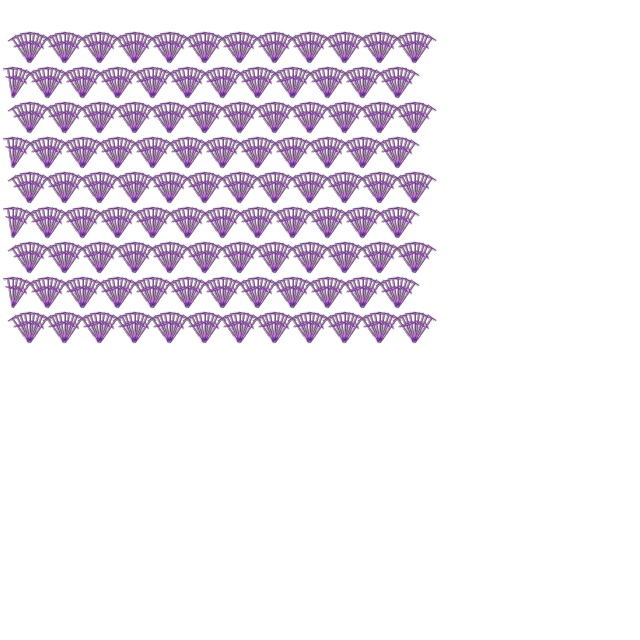double treble: (8, 34, 34, 66), (26, 34, 52, 66), (43, 34, 69, 66), (61, 34, 87, 66), (78, 34, 104, 66), (96, 34, 122, 66), (113, 34, 139, 66), (131, 34, 157, 66), (148, 34, 174, 66), (166, 34, 192, 66), (183, 34, 209, 66), (201, 34, 227, 66), (218, 34, 244, 66), (236, 34, 262, 66), (253, 34, 279, 66), (271, 34, 297, 66), (288, 34, 314, 66), (306, 34, 332, 66), (323, 34, 349, 66), (341, 34, 367, 66), (358, 34, 384, 66), (376, 34, 402, 66), (393, 34, 419, 66), (411, 34, 437, 66), (9, 69, 35, 101), (26, 69, 52, 101), (44, 69, 70, 101), (61, 69, 87, 101), (79, 69, 105, 101), (96, 69, 122, 101), (114, 69, 140, 101), (131, 69, 157, 101), (149, 69, 175, 101), (166, 69, 192, 101), (184, 69, 210, 101), (201, 69, 227, 101), (219, 69, 245, 101), (236, 69, 262, 101), (254, 69, 280, 101), (271, 69, 297, 101), (289, 69, 315, 101), (306, 69, 332, 101), (324, 69, 350, 101), (341, 69, 367, 101), (359, 69, 385, 101), (376, 69, 402, 101), (394, 69, 420, 101), (8, 104, 34, 136), (26, 104, 52, 136), (43, 104, 69, 136), (61, 104, 87, 136), (78, 104, 104, 136), (96, 104, 122, 136), (113, 104, 139, 136), (131, 104, 157, 136), (148, 104, 174, 136), (166, 104, 192, 136), (183, 104, 209, 136), (201, 104, 227, 136), (218, 104, 244, 136), (236, 104, 262, 136), (253, 104, 279, 136), (271, 104, 297, 136), (288, 104, 314, 136), (306, 104, 332, 136), (323, 104, 349, 136), (341, 104, 367, 136), (358, 104, 384, 136), (376, 104, 402, 136), (393, 104, 419, 136), (411, 104, 437, 136), (9, 139, 35, 171), (26, 139, 52, 171), (44, 139, 70, 171), (61, 139, 87, 171), (79, 139, 105, 171), (96, 139, 122, 171), (114, 139, 140, 171), (131, 139, 157, 171), (149, 139, 175, 171), (166, 139, 192, 171), (184, 139, 210, 171), (201, 139, 227, 171), (219, 139, 245, 171), (236, 139, 262, 171), (254, 139, 280, 171), (271, 139, 297, 171), (289, 139, 315, 171), (306, 139, 332, 171), (324, 139, 350, 171), (341, 139, 367, 171), (359, 139, 385, 171), (376, 139, 402, 171), (394, 139, 420, 171), (8, 174, 34, 206), (26, 174, 52, 206), (43, 174, 69, 206), (61, 174, 87, 206), (78, 174, 104, 206), (96, 174, 122, 206), (113, 174, 139, 206), (131, 174, 157, 206), (148, 174, 174, 206), (166, 174, 192, 206), (183, 174, 209, 206), (201, 174, 227, 206), (218, 174, 244, 206), (236, 174, 262, 206), (253, 174, 279, 206), (271, 174, 297, 206), (288, 174, 314, 206), (306, 174, 332, 206), (323, 174, 349, 206), (341, 174, 367, 206), (358, 174, 384, 206), (376, 174, 402, 206), (393, 174, 419, 206), (411, 174, 437, 206), (9, 209, 35, 241), (26, 209, 52, 241), (44, 209, 70, 241), (61, 209, 87, 241), (79, 209, 105, 241), (96, 209, 122, 241), (114, 209, 140, 241), (131, 209, 157, 241), (149, 209, 175, 241), (166, 209, 192, 241), (184, 209, 210, 241), (201, 209, 227, 241), (219, 209, 245, 241), (236, 209, 262, 241), (254, 209, 280, 241), (271, 209, 297, 241), (289, 209, 315, 241), (306, 209, 332, 241), (324, 209, 350, 241), (341, 209, 367, 241), (359, 209, 385, 241), (376, 209, 402, 241), (394, 209, 420, 241), (8, 244, 34, 276), (26, 244, 52, 276), (43, 244, 69, 276), (61, 244, 87, 276), (78, 244, 104, 276), (96, 244, 122, 276), (113, 244, 139, 276), (131, 244, 157, 276), (148, 244, 174, 276), (166, 244, 192, 276), (183, 244, 209, 276), (201, 244, 227, 276), (218, 244, 244, 276), (236, 244, 262, 276), (253, 244, 279, 276), (271, 244, 297, 276), (288, 244, 314, 276), (306, 244, 332, 276), (323, 244, 349, 276), (341, 244, 367, 276), (358, 244, 384, 276), (376, 244, 402, 276), (393, 244, 419, 276), (411, 244, 437, 276), (9, 279, 35, 311), (26, 279, 52, 311), (44, 279, 70, 311), (61, 279, 87, 311), (79, 279, 105, 311), (96, 279, 122, 311), (114, 279, 140, 311), (131, 279, 157, 311), (149, 279, 175, 311), (166, 279, 192, 311), (184, 279, 210, 311), (201, 279, 227, 311), (219, 279, 245, 311), (236, 279, 262, 311), (254, 279, 280, 311), (271, 279, 297, 311), (289, 279, 315, 311), (306, 279, 332, 311), (324, 279, 350, 311), (341, 279, 367, 311), (359, 279, 385, 311), (376, 279, 402, 311), (394, 279, 420, 311), (8, 314, 34, 346), (26, 314, 52, 346), (43, 314, 69, 346), (61, 314, 87, 346), (78, 314, 104, 346), (96, 314, 122, 346), (113, 314, 139, 346), (131, 314, 157, 346), (148, 314, 174, 346), (166, 314, 192, 346), (183, 314, 209, 346), (201, 314, 227, 346), (218, 314, 244, 346), (236, 314, 262, 346), (253, 314, 279, 346), (271, 314, 297, 346), (288, 314, 314, 346), (306, 314, 332, 346), (323, 314, 349, 346), (341, 314, 367, 346), (358, 314, 384, 346), (376, 314, 402, 346), (393, 314, 419, 346), (411, 314, 437, 346), (12, 32, 34, 65), (26, 32, 48, 65), (47, 32, 69, 65), (61, 32, 83, 65), (82, 32, 104, 65), (96, 32, 118, 65), (117, 32, 139, 65), (131, 32, 153, 65), (152, 32, 174, 65), (166, 32, 188, 65), (187, 32, 209, 65), (201, 32, 223, 65), (222, 32, 244, 65), (236, 32, 258, 65), (257, 32, 279, 65), (271, 32, 293, 65), (292, 32, 314, 65), (306, 32, 328, 65), (327, 32, 349, 65), (341, 32, 363, 65), (362, 32, 384, 65), (376, 32, 398, 65), (397, 32, 419, 65), (411, 32, 433, 65), (9, 67, 31, 100), (30, 67, 52, 100), (44, 67, 66, 100), (65, 67, 87, 100), (79, 67, 101, 100), (100, 67, 122, 100), (114, 67, 136, 100), (135, 67, 157, 100), (149, 67, 171, 100), (170, 67, 192, 100), (184, 67, 206, 100), (205, 67, 227, 100), (219, 67, 241, 100), (240, 67, 262, 100), (254, 67, 276, 100), (275, 67, 297, 100), (289, 67, 311, 100), (310, 67, 332, 100), (324, 67, 346, 100), (345, 67, 367, 100), (359, 67, 381, 100), (380, 67, 402, 100), (394, 67, 416, 100), (12, 102, 34, 135), (26, 102, 48, 135), (47, 102, 69, 135), (61, 102, 83, 135), (82, 102, 104, 135), (96, 102, 118, 135), (117, 102, 139, 135), (131, 102, 153, 135), (152, 102, 174, 135), (166, 102, 188, 135), (187, 102, 209, 135), (201, 102, 223, 135), (222, 102, 244, 135), (236, 102, 258, 135), (257, 102, 279, 135), (271, 102, 293, 135), (292, 102, 314, 135), (306, 102, 328, 135), (327, 102, 349, 135), (341, 102, 363, 135), (362, 102, 384, 135), (376, 102, 398, 135), (397, 102, 419, 135), (411, 102, 433, 135), (9, 137, 31, 170), (30, 137, 52, 170), (44, 137, 66, 170), (65, 137, 87, 170), (79, 137, 101, 170), (100, 137, 122, 170), (114, 137, 136, 170), (135, 137, 157, 170), (149, 137, 171, 170), (170, 137, 192, 170), (184, 137, 206, 170), (205, 137, 227, 170), (219, 137, 241, 170), (240, 137, 262, 170), (254, 137, 276, 170), (275, 137, 297, 170), (289, 137, 311, 170), (310, 137, 332, 170), (324, 137, 346, 170), (345, 137, 367, 170), (359, 137, 381, 170), (380, 137, 402, 170), (394, 137, 416, 170), (12, 172, 34, 205), (26, 172, 48, 205), (47, 172, 69, 205), (61, 172, 83, 205), (82, 172, 104, 205), (96, 172, 118, 205), (117, 172, 139, 205), (131, 172, 153, 205), (152, 172, 174, 205), (166, 172, 188, 205), (187, 172, 209, 205), (201, 172, 223, 205), (222, 172, 244, 205), (236, 172, 258, 205), (257, 172, 279, 205), (271, 172, 293, 205), (292, 172, 314, 205), (306, 172, 328, 205), (327, 172, 349, 205), (341, 172, 363, 205), (362, 172, 384, 205), (376, 172, 398, 205), (397, 172, 419, 205), (411, 172, 433, 205), (9, 207, 31, 240), (30, 207, 52, 240), (44, 207, 66, 240), (65, 207, 87, 240), (79, 207, 101, 240), (100, 207, 122, 240), (114, 207, 136, 240), (135, 207, 157, 240), (149, 207, 171, 240), (170, 207, 192, 240), (184, 207, 206, 240), (205, 207, 227, 240), (219, 207, 241, 240), (240, 207, 262, 240), (254, 207, 276, 240), (275, 207, 297, 240), (289, 207, 311, 240), (310, 207, 332, 240), (324, 207, 346, 240), (345, 207, 367, 240), (359, 207, 381, 240), (380, 207, 402, 240), (394, 207, 416, 240), (12, 242, 34, 275), (26, 242, 48, 275), (47, 242, 69, 275), (61, 242, 83, 275), (82, 242, 104, 275), (96, 242, 118, 275), (117, 242, 139, 275), (131, 242, 153, 275), (152, 242, 174, 275), (166, 242, 188, 275), (187, 242, 209, 275), (201, 242, 223, 275), (222, 242, 244, 275), (236, 242, 258, 275), (257, 242, 279, 275), (271, 242, 293, 275), (292, 242, 314, 275), (306, 242, 328, 275), (327, 242, 349, 275), (341, 242, 363, 275), (362, 242, 384, 275), (376, 242, 398, 275), (397, 242, 419, 275), (411, 242, 433, 275), (9, 277, 31, 310), (30, 277, 52, 310), (44, 277, 66, 310), (65, 277, 87, 310), (79, 277, 101, 310), (100, 277, 122, 310), (114, 277, 136, 310), (135, 277, 157, 310), (149, 277, 171, 310), (170, 277, 192, 310), (184, 277, 206, 310), (205, 277, 227, 310), (219, 277, 241, 310), (240, 277, 262, 310), (254, 277, 276, 310), (275, 277, 297, 310), (289, 277, 311, 310), (310, 277, 332, 310), (324, 277, 346, 310), (345, 277, 367, 310), (359, 277, 381, 310), (380, 277, 402, 310), (394, 277, 416, 310), (12, 312, 34, 345), (26, 312, 48, 345), (47, 312, 69, 345), (61, 312, 83, 345), (82, 312, 104, 345), (96, 312, 118, 345), (117, 312, 139, 345), (131, 312, 153, 345), (152, 312, 174, 345), (166, 312, 188, 345), (187, 312, 209, 345), (201, 312, 223, 345), (222, 312, 244, 345), (236, 312, 258, 345), (257, 312, 279, 345), (271, 312, 293, 345), (292, 312, 314, 345), (306, 312, 328, 345), (327, 312, 349, 345), (341, 312, 363, 345), (362, 312, 384, 345), (376, 312, 398, 345), (397, 312, 419, 345), (411, 312, 433, 345), (16, 31, 35, 64), (25, 31, 44, 64), (51, 31, 70, 64), (60, 31, 79, 64), (86, 31, 105, 64), (95, 31, 114, 64), (121, 31, 140, 64), (130, 31, 149, 64), (156, 31, 175, 64), (165, 31, 184, 64), (191, 31, 210, 64), (200, 31, 219, 64), (226, 31, 245, 64), (235, 31, 254, 64), (261, 31, 280, 64), (270, 31, 289, 64), (296, 31, 315, 64), (305, 31, 324, 64), (331, 31, 350, 64), (340, 31, 359, 64), (366, 31, 385, 64), (375, 31, 394, 64), (401, 31, 420, 64), (410, 31, 429, 64), (8, 66, 27, 99), (34, 66, 53, 99), (43, 66, 62, 99), (69, 66, 88, 99), (78, 66, 97, 99), (104, 66, 123, 99), (113, 66, 132, 99), (139, 66, 158, 99), (148, 66, 167, 99), (174, 66, 193, 99), (183, 66, 202, 99), (209, 66, 228, 99), (218, 66, 237, 99), (244, 66, 263, 99), (253, 66, 272, 99), (279, 66, 298, 99), (288, 66, 307, 99), (314, 66, 333, 99), (323, 66, 342, 99), (349, 66, 368, 99), (358, 66, 377, 99), (384, 66, 403, 99), (393, 66, 412, 99), (16, 101, 35, 134), (25, 101, 44, 134), (51, 101, 70, 134), (60, 101, 79, 134), (86, 101, 105, 134), (95, 101, 114, 134), (121, 101, 140, 134), (130, 101, 149, 134), (156, 101, 175, 134), (165, 101, 184, 134), (191, 101, 210, 134), (200, 101, 219, 134), (226, 101, 245, 134), (235, 101, 254, 134), (261, 101, 280, 134), (270, 101, 289, 134), (296, 101, 315, 134), (305, 101, 324, 134), (331, 101, 350, 134), (340, 101, 359, 134), (366, 101, 385, 134), (375, 101, 394, 134), (401, 101, 420, 134), (410, 101, 429, 134), (8, 136, 27, 169), (34, 136, 53, 169), (43, 136, 62, 169), (69, 136, 88, 169), (78, 136, 97, 169), (104, 136, 123, 169), (113, 136, 132, 169), (139, 136, 158, 169), (148, 136, 167, 169), (174, 136, 193, 169), (183, 136, 202, 169), (209, 136, 228, 169), (218, 136, 237, 169), (244, 136, 263, 169), (253, 136, 272, 169), (279, 136, 298, 169), (288, 136, 307, 169), (314, 136, 333, 169), (323, 136, 342, 169), (349, 136, 368, 169), (358, 136, 377, 169), (384, 136, 403, 169), (393, 136, 412, 169), (16, 171, 35, 204), (25, 171, 44, 204), (51, 171, 70, 204), (60, 171, 79, 204), (86, 171, 105, 204), (95, 171, 114, 204), (121, 171, 140, 204), (130, 171, 149, 204), (156, 171, 175, 204), (165, 171, 184, 204), (191, 171, 210, 204), (200, 171, 219, 204), (226, 171, 245, 204), (235, 171, 254, 204), (261, 171, 280, 204), (270, 171, 289, 204), (296, 171, 315, 204), (305, 171, 324, 204), (331, 171, 350, 204), (340, 171, 359, 204), (366, 171, 385, 204), (375, 171, 394, 204), (401, 171, 420, 204), (410, 171, 429, 204), (8, 206, 27, 239), (34, 206, 53, 239), (43, 206, 62, 239), (69, 206, 88, 239), (78, 206, 97, 239), (104, 206, 123, 239), (113, 206, 132, 239), (139, 206, 158, 239), (148, 206, 167, 239), (174, 206, 193, 239), (183, 206, 202, 239), (209, 206, 228, 239), (218, 206, 237, 239), (244, 206, 263, 239), (253, 206, 272, 239), (279, 206, 298, 239), (288, 206, 307, 239), (314, 206, 333, 239), (323, 206, 342, 239), (349, 206, 368, 239), (358, 206, 377, 239), (384, 206, 403, 239), (393, 206, 412, 239), (16, 241, 35, 274), (25, 241, 44, 274), (51, 241, 70, 274), (60, 241, 79, 274), (86, 241, 105, 274), (95, 241, 114, 274), (121, 241, 140, 274), (130, 241, 149, 274), (156, 241, 175, 274), (165, 241, 184, 274), (191, 241, 210, 274), (200, 241, 219, 274), (226, 241, 245, 274), (235, 241, 254, 274), (261, 241, 280, 274), (270, 241, 289, 274), (296, 241, 315, 274), (305, 241, 324, 274), (331, 241, 350, 274), (340, 241, 359, 274), (366, 241, 385, 274), (375, 241, 394, 274), (401, 241, 420, 274), (410, 241, 429, 274), (8, 276, 27, 309), (34, 276, 53, 309), (43, 276, 62, 309), (69, 276, 88, 309), (78, 276, 97, 309), (104, 276, 123, 309), (113, 276, 132, 309), (139, 276, 158, 309), (148, 276, 167, 309), (174, 276, 193, 309), (183, 276, 202, 309), (209, 276, 228, 309), (218, 276, 237, 309), (244, 276, 263, 309), (253, 276, 272, 309), (279, 276, 298, 309), (288, 276, 307, 309), (314, 276, 333, 309), (323, 276, 342, 309), (349, 276, 368, 309), (358, 276, 377, 309), (384, 276, 403, 309), (393, 276, 412, 309), (16, 311, 35, 344), (25, 311, 44, 344), (51, 311, 70, 344), (60, 311, 79, 344), (86, 311, 105, 344), (95, 311, 114, 344), (121, 311, 140, 344), (130, 311, 149, 344), (156, 311, 175, 344), (165, 311, 184, 344), (191, 311, 210, 344), (200, 311, 219, 344), (226, 311, 245, 344), (235, 311, 254, 344), (261, 311, 280, 344), (270, 311, 289, 344), (296, 311, 315, 344), (305, 311, 324, 344), (331, 311, 350, 344), (340, 311, 359, 344), (366, 311, 385, 344), (375, 311, 394, 344), (401, 311, 420, 344), (410, 311, 429, 344), (20, 31, 35, 64), (25, 31, 40, 64), (55, 31, 70, 64), (60, 31, 75, 64), (90, 31, 105, 64), (95, 31, 110, 64), (125, 31, 140, 64), (130, 31, 145, 64), (160, 31, 175, 64), (165, 31, 180, 64), (195, 31, 210, 64), (200, 31, 215, 64), (230, 31, 245, 64), (235, 31, 250, 64), (265, 31, 280, 64), (270, 31, 285, 64), (300, 31, 315, 64), (305, 31, 320, 64), (335, 31, 350, 64), (340, 31, 355, 64), (370, 31, 385, 64), (375, 31, 390, 64), (405, 31, 420, 64), (410, 31, 425, 64), (3, 66, 18, 99), (8, 66, 23, 99), (38, 66, 53, 99), (43, 66, 58, 99), (73, 66, 88, 99), (78, 66, 93, 99), (108, 66, 123, 99), (113, 66, 128, 99), (143, 66, 158, 99), (148, 66, 163, 99), (178, 66, 193, 99), (183, 66, 198, 99), (213, 66, 228, 99), (218, 66, 233, 99), (248, 66, 263, 99), (253, 66, 268, 99), (283, 66, 298, 99), (288, 66, 303, 99), (318, 66, 333, 99), (323, 66, 338, 99), (353, 66, 368, 99), (358, 66, 373, 99), (388, 66, 403, 99), (393, 66, 408, 99), (20, 101, 35, 134), (25, 101, 40, 134), (55, 101, 70, 134), (60, 101, 75, 134), (90, 101, 105, 134), (95, 101, 110, 134), (125, 101, 140, 134), (130, 101, 145, 134), (160, 101, 175, 134), (165, 101, 180, 134), (195, 101, 210, 134), (200, 101, 215, 134), (230, 101, 245, 134), (235, 101, 250, 134), (265, 101, 280, 134), (270, 101, 285, 134), (300, 101, 315, 134), (305, 101, 320, 134), (335, 101, 350, 134), (340, 101, 355, 134), (370, 101, 385, 134), (375, 101, 390, 134), (405, 101, 420, 134), (410, 101, 425, 134), (3, 136, 18, 169), (8, 136, 23, 169), (38, 136, 53, 169), (43, 136, 58, 169), (73, 136, 88, 169), (78, 136, 93, 169), (108, 136, 123, 169), (113, 136, 128, 169), (143, 136, 158, 169), (148, 136, 163, 169), (178, 136, 193, 169), (183, 136, 198, 169), (213, 136, 228, 169), (218, 136, 233, 169), (248, 136, 263, 169), (253, 136, 268, 169), (283, 136, 298, 169), (288, 136, 303, 169), (318, 136, 333, 169), (323, 136, 338, 169), (353, 136, 368, 169), (358, 136, 373, 169), (388, 136, 403, 169), (393, 136, 408, 169), (20, 171, 35, 204), (25, 171, 40, 204), (55, 171, 70, 204), (60, 171, 75, 204), (90, 171, 105, 204), (95, 171, 110, 204), (125, 171, 140, 204), (130, 171, 145, 204), (160, 171, 175, 204), (165, 171, 180, 204), (195, 171, 210, 204), (200, 171, 215, 204), (230, 171, 245, 204), (235, 171, 250, 204), (265, 171, 280, 204), (270, 171, 285, 204), (300, 171, 315, 204), (305, 171, 320, 204), (335, 171, 350, 204), (340, 171, 355, 204), (370, 171, 385, 204), (375, 171, 390, 204), (405, 171, 420, 204), (410, 171, 425, 204), (3, 206, 18, 239), (8, 206, 23, 239), (38, 206, 53, 239), (43, 206, 58, 239), (73, 206, 88, 239), (78, 206, 93, 239), (108, 206, 123, 239), (113, 206, 128, 239), (143, 206, 158, 239), (148, 206, 163, 239), (178, 206, 193, 239), (183, 206, 198, 239), (213, 206, 228, 239), (218, 206, 233, 239), (248, 206, 263, 239), (253, 206, 268, 239), (283, 206, 298, 239), (288, 206, 303, 239), (318, 206, 333, 239), (323, 206, 338, 239), (353, 206, 368, 239), (358, 206, 373, 239), (388, 206, 403, 239), (393, 206, 408, 239), (20, 241, 35, 274), (25, 241, 40, 274), (55, 241, 70, 274), (60, 241, 75, 274), (90, 241, 105, 274), (95, 241, 110, 274), (125, 241, 140, 274), (130, 241, 145, 274), (160, 241, 175, 274), (165, 241, 180, 274), (195, 241, 210, 274), (200, 241, 215, 274), (230, 241, 245, 274), (235, 241, 250, 274), (265, 241, 280, 274), (270, 241, 285, 274), (300, 241, 315, 274), (305, 241, 320, 274), (335, 241, 350, 274), (340, 241, 355, 274), (370, 241, 385, 274), (375, 241, 390, 274), (405, 241, 420, 274), (410, 241, 425, 274), (3, 276, 18, 309), (8, 276, 23, 309), (38, 276, 53, 309), (43, 276, 58, 309), (73, 276, 88, 309), (78, 276, 93, 309), (108, 276, 123, 309), (113, 276, 128, 309), (143, 276, 158, 309), (148, 276, 163, 309), (178, 276, 193, 309), (183, 276, 198, 309), (213, 276, 228, 309), (218, 276, 233, 309), (248, 276, 263, 309), (253, 276, 268, 309), (283, 276, 298, 309), (288, 276, 303, 309), (318, 276, 333, 309), (323, 276, 338, 309), (353, 276, 368, 309), (358, 276, 373, 309), (388, 276, 403, 309), (393, 276, 408, 309), (20, 311, 35, 344), (25, 311, 40, 344), (55, 311, 70, 344), (60, 311, 75, 344), (90, 311, 105, 344), (95, 311, 110, 344), (125, 311, 140, 344), (130, 311, 145, 344), (160, 311, 175, 344), (165, 311, 180, 344), (195, 311, 210, 344), (200, 311, 215, 344), (230, 311, 245, 344), (235, 311, 250, 344), (265, 311, 280, 344), (270, 311, 285, 344), (300, 311, 315, 344), (305, 311, 320, 344), (335, 311, 350, 344), (340, 311, 355, 344), (370, 311, 385, 344), (375, 311, 390, 344), (405, 311, 420, 344), (410, 311, 425, 344), (25, 31, 35, 63), (60, 31, 70, 63), (95, 31, 105, 63), (130, 31, 140, 63), (165, 31, 175, 63), (200, 31, 210, 63), (235, 31, 245, 63), (270, 31, 280, 63), (305, 31, 315, 63), (340, 31, 350, 63), (375, 31, 385, 63), (410, 31, 420, 63), (8, 66, 18, 98), (43, 66, 53, 98), (78, 66, 88, 98), (113, 66, 123, 98), (148, 66, 158, 98), (183, 66, 193, 98), (218, 66, 228, 98), (253, 66, 263, 98), (288, 66, 298, 98), (323, 66, 333, 98), (358, 66, 368, 98), (393, 66, 403, 98), (25, 101, 35, 133), (60, 101, 70, 133), (95, 101, 105, 133), (130, 101, 140, 133), (165, 101, 175, 133), (200, 101, 210, 133), (235, 101, 245, 133), (270, 101, 280, 133), (305, 101, 315, 133), (340, 101, 350, 133), (375, 101, 385, 133), (410, 101, 420, 133), (8, 136, 18, 168), (43, 136, 53, 168), (78, 136, 88, 168), (113, 136, 123, 168), (148, 136, 158, 168), (183, 136, 193, 168), (218, 136, 228, 168), (253, 136, 263, 168), (288, 136, 298, 168), (323, 136, 333, 168), (358, 136, 368, 168), (393, 136, 403, 168), (25, 171, 35, 203), (60, 171, 70, 203), (95, 171, 105, 203), (130, 171, 140, 203), (165, 171, 175, 203), (200, 171, 210, 203), (235, 171, 245, 203), (270, 171, 280, 203), (305, 171, 315, 203), (340, 171, 350, 203), (375, 171, 385, 203), (410, 171, 420, 203), (8, 206, 18, 238), (43, 206, 53, 238), (78, 206, 88, 238), (113, 206, 123, 238), (148, 206, 158, 238), (183, 206, 193, 238), (218, 206, 228, 238), (253, 206, 263, 238), (288, 206, 298, 238), (323, 206, 333, 238), (358, 206, 368, 238), (393, 206, 403, 238), (25, 241, 35, 273), (60, 241, 70, 273), (95, 241, 105, 273), (130, 241, 140, 273), (165, 241, 175, 273), (200, 241, 210, 273), (235, 241, 245, 273), (270, 241, 280, 273), (305, 241, 315, 273), (340, 241, 350, 273), (375, 241, 385, 273), (410, 241, 420, 273), (8, 276, 18, 308), (43, 276, 53, 308), (78, 276, 88, 308), (113, 276, 123, 308), (148, 276, 158, 308), (183, 276, 193, 308), (218, 276, 228, 308), (253, 276, 263, 308), (288, 276, 298, 308), (323, 276, 333, 308), (358, 276, 368, 308), (393, 276, 403, 308), (25, 311, 35, 343), (60, 311, 70, 343), (95, 311, 105, 343), (130, 311, 140, 343), (165, 311, 175, 343), (200, 311, 210, 343), (235, 311, 245, 343), (270, 311, 280, 343), (305, 311, 315, 343), (340, 311, 350, 343), (375, 311, 385, 343), (410, 311, 420, 343)
